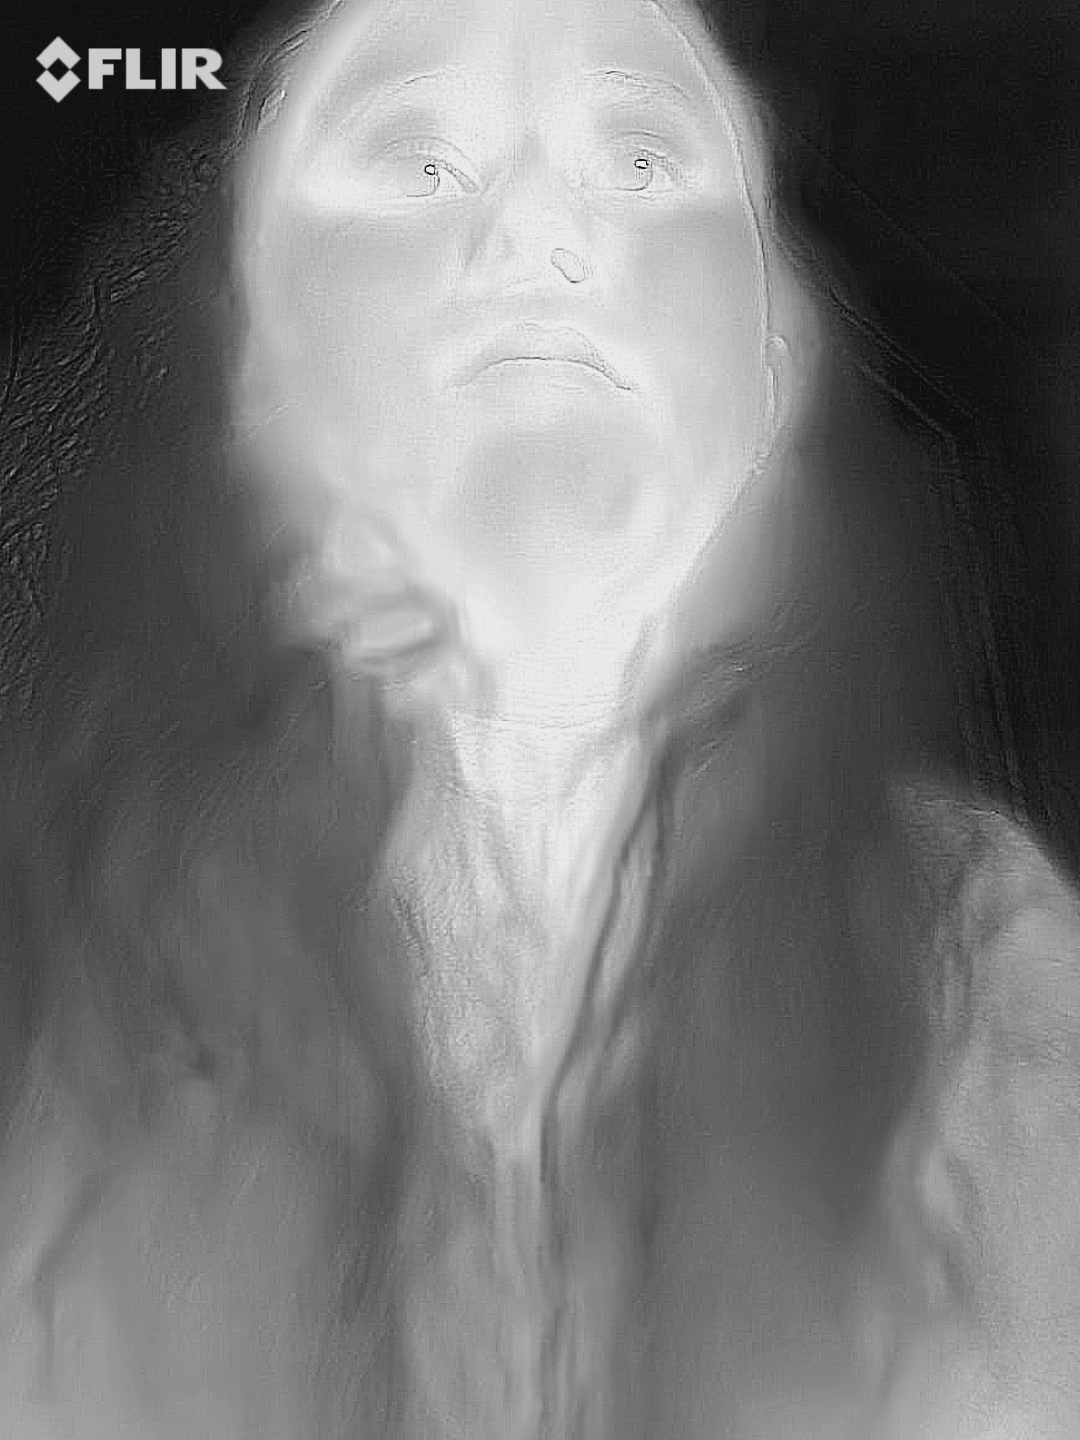head: (210, 4, 796, 604)
